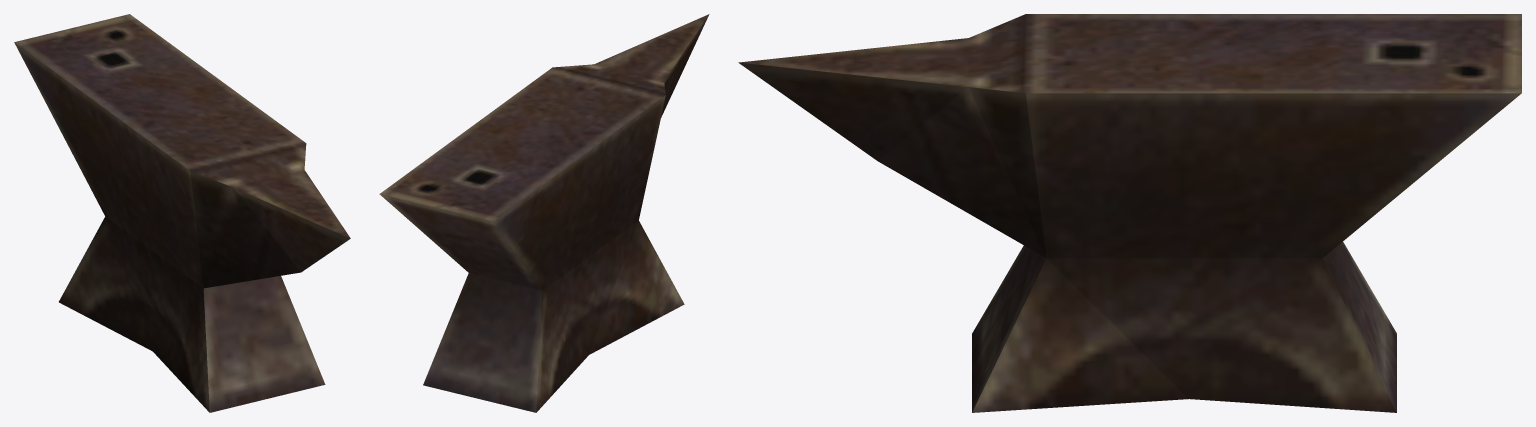
Rendered from Whale_razanHammer_anmil.obj.
3 renders of one model, left to right at view 1: azimuth 30°, elevation 25°; view 2: azimuth 150°, elevation 25°; view 3: azimuth 270°, elevation 25°, orthographic. The views are drawn at different scales.
Visible parts, largest first — view 1: Whale_razanHammer_tri [anmil]; view 2: Whale_razanHammer_tri [anmil]; view 3: Whale_razanHammer_tri [anmil].
Boxes of the visible parts, x1,y1,x2,y2 form: Whale_razanHammer_tri [anmil]: (14,14,350,412); Whale_razanHammer_tri [anmil]: (379,14,709,412); Whale_razanHammer_tri [anmil]: (738,14,1521,412).
Bounding box in the file's own units: 0.3094 × 0.5816 × 1.29.
1 material, 1 textured.
